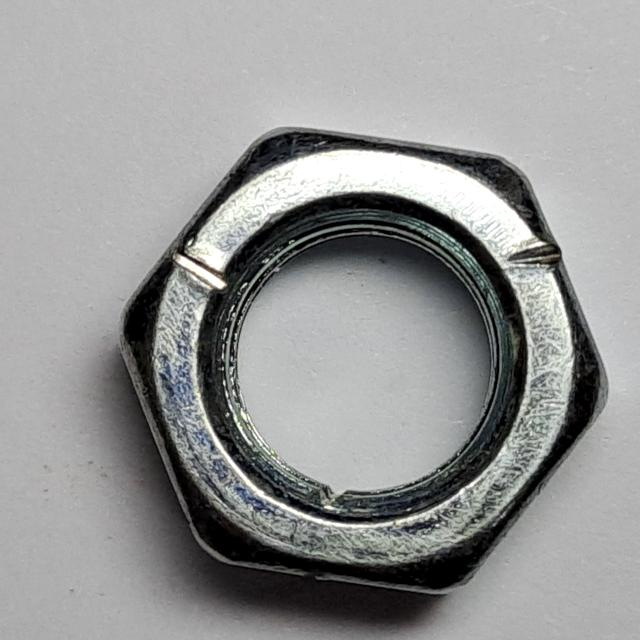Scratches: (100, 115, 632, 610)
